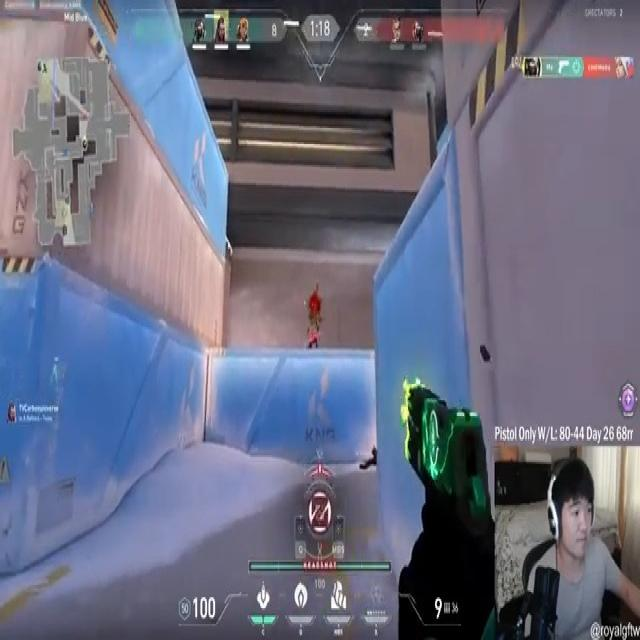enemy: (308, 311, 320, 350)
